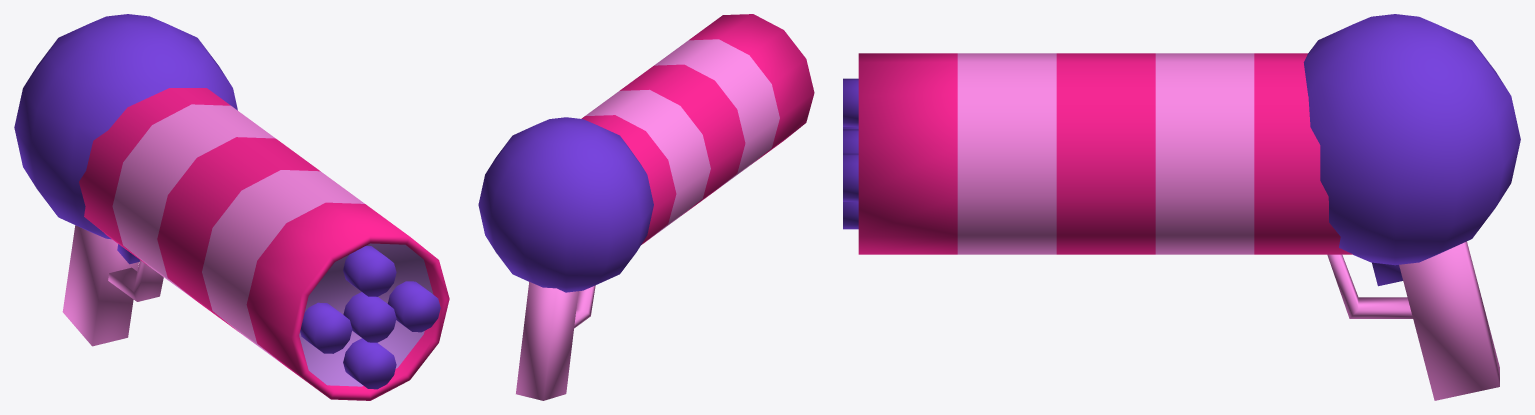
Rendered from MachineGun.fbx.
3 renders of one model, left to right at view 1: azimuth 30°, elevation 25°; view 2: azimuth 150°, elevation 25°; view 3: azimuth 270°, elevation 25°, orthographic. The views are drawn at different scales.
Visible parts, largest first — view 1: PistoletBulle; view 2: PistoletBulle; view 3: PistoletBulle.
Part boxes in pixels (box(x1,y1,x2,y2)): PistoletBulle: box(14, 14, 449, 400); PistoletBulle: box(478, 14, 814, 400); PistoletBulle: box(843, 14, 1520, 400).
Bounding box in the file's own units: 84.17 × 227 × 135.
